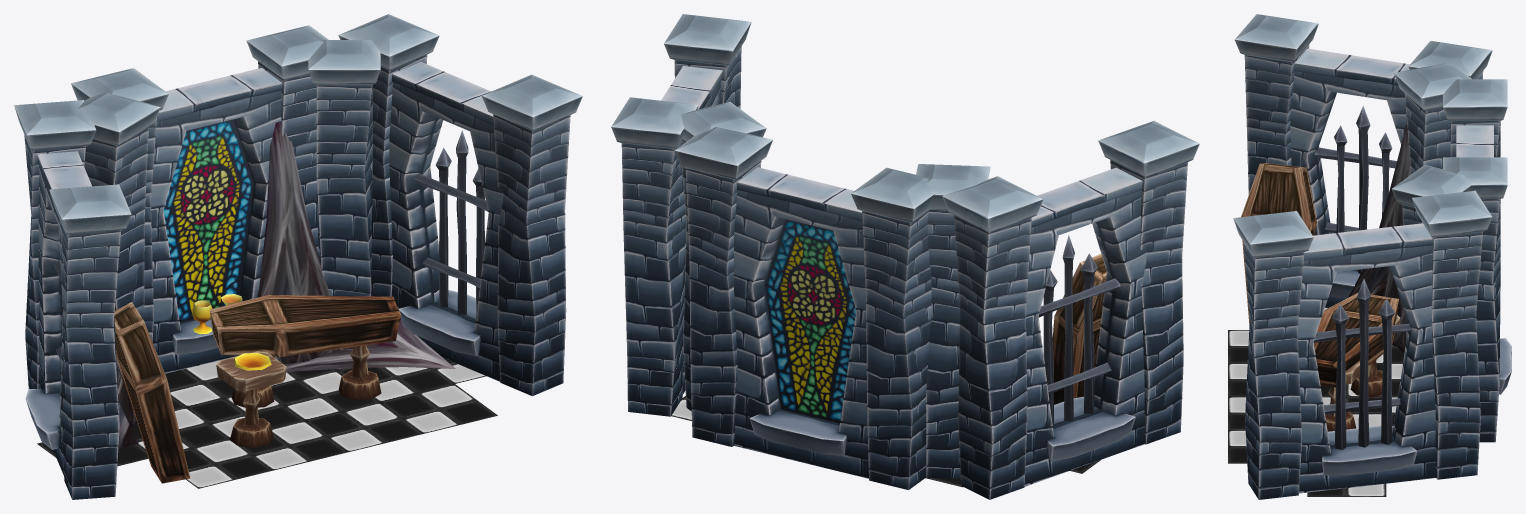
File: Vampire_Village_Interior_01.FBX
The picture shows the model from 3 angles, left to right: view 1: azimuth 30°, elevation 25°; view 2: azimuth 150°, elevation 25°; view 3: azimuth 270°, elevation 25°; orthographic projection. The views are drawn at different scales.
Visible parts, largest first — view 1: Vampire_Village_Interior_01; view 2: Vampire_Village_Interior_01; view 3: Vampire_Village_Interior_01.
Part boxes in pixels (x1,y1,x2,y2): Vampire_Village_Interior_01: (14,14,582,499); Vampire_Village_Interior_01: (611,14,1199,499); Vampire_Village_Interior_01: (1228,14,1511,499).
Size of the model in its own units: 742 by 407 by 386.
